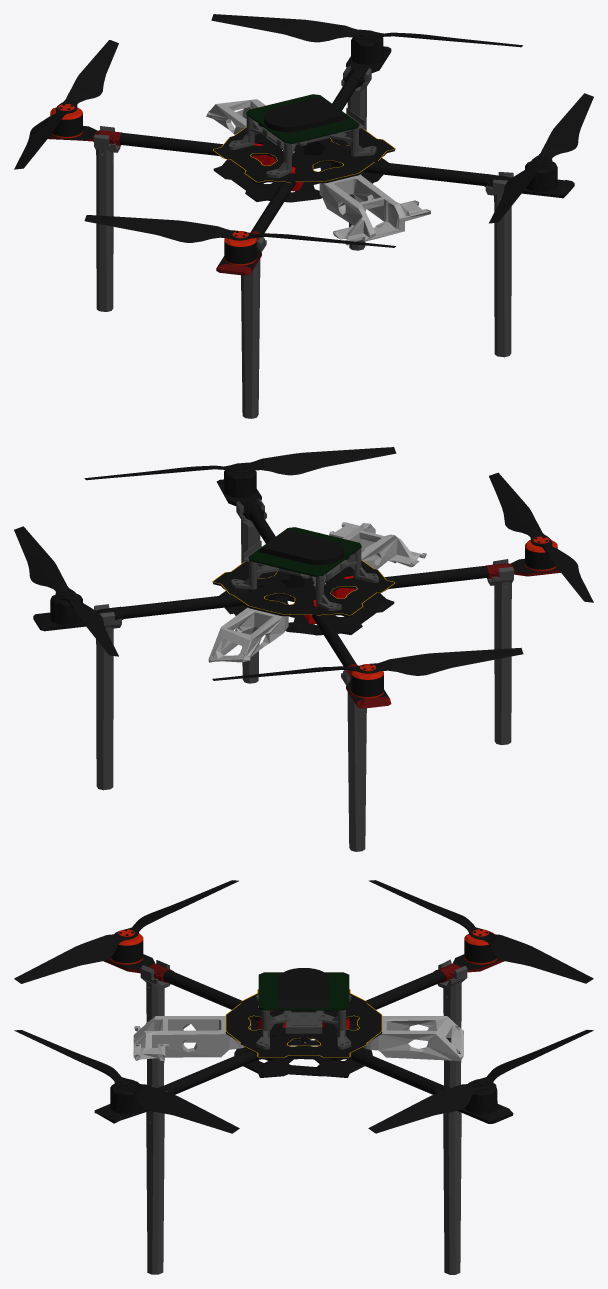
File: tarot_simplificado_v1.obj
3 views of the same model, one above another, from view 1: azimuth 30°, elevation 25°; view 2: azimuth 150°, elevation 25°; view 3: azimuth 270°, elevation 25° (orthographic).
Parts seen in each view (by area): view 1: Object.1, Object.2, Object.5, Object.4, Object.6, Object.3; view 2: Object.1, Object.2, Object.6, Object.3, Object.5, Object.4; view 3: Object.1, Object.2, Object.4, Object.6, Object.5, Object.3.
Boxes of the visible parts, x1,y1,x2,y2 form: Object.1: [48, 37, 574, 418]; Object.2: [229, 94, 376, 178]; Object.5: [211, 14, 522, 47]; Object.4: [84, 215, 395, 247]; Object.6: [489, 93, 593, 223]; Object.3: [14, 40, 118, 169]; Object.1: [33, 470, 560, 851]; Object.2: [231, 527, 378, 610]; Object.6: [84, 447, 396, 480]; Object.3: [212, 647, 523, 680]; Object.5: [14, 526, 118, 656]; Object.4: [489, 472, 593, 602]; Object.1: [94, 932, 513, 1274]; Object.2: [256, 968, 351, 1049]; Object.4: [14, 880, 238, 983]; Object.6: [14, 1030, 239, 1133]; Object.5: [368, 1029, 593, 1133]; Object.3: [368, 880, 593, 983].
Size of the model in its own units: 719 by 294 by 695.
